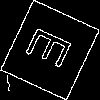E: (25, 25, 82, 75)
